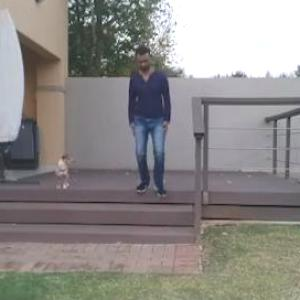follow: (135, 45, 173, 200)
